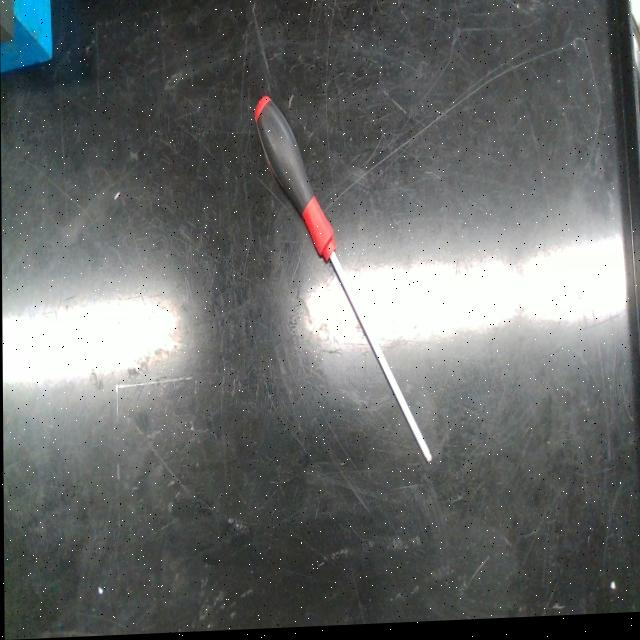Screwdriver: (255, 97, 432, 466)
